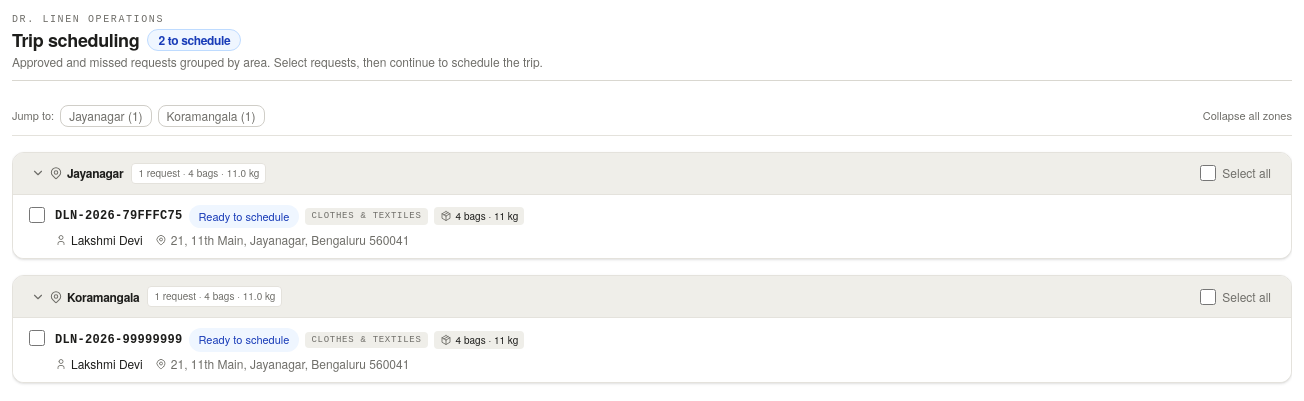
TextileSchedulePage › renders quick jump buttons and batch collapse when multiple zones exist
This screenshot has width=1304, height=401.
Expected: the button "Jayanagar (1)" is shown, [60, 104, 152, 126]
Expected: the button "Koramangala (1)" is shown, [158, 104, 264, 126]
Click the button "Collapse all zones" at (1247, 116), box [1203, 108, 1292, 123]
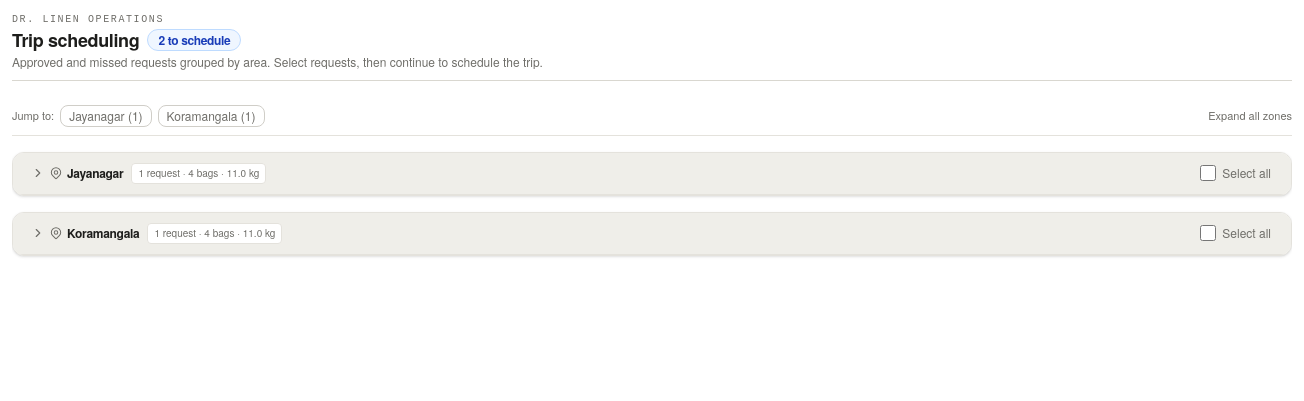
Now the text "DLN-2026-79FFFC75" is gone
Now the text "DLN-2026-99999999" is gone
Click the button "Expand all zones" at (1250, 116), box [1208, 108, 1292, 123]
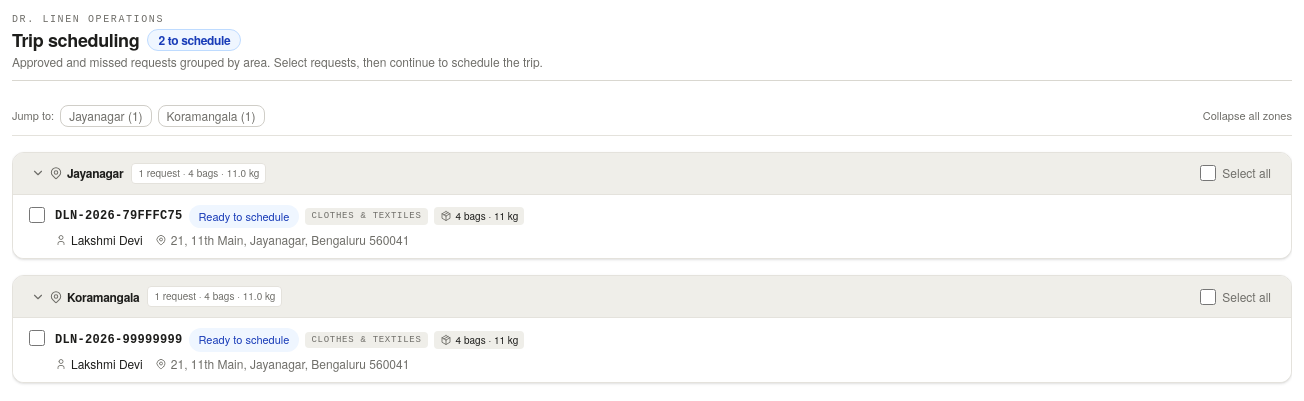
Now the text "DLN-2026-79FFFC75" is shown, box [55, 208, 182, 224]
Now the text "DLN-2026-99999999" is shown, box [55, 332, 182, 348]
